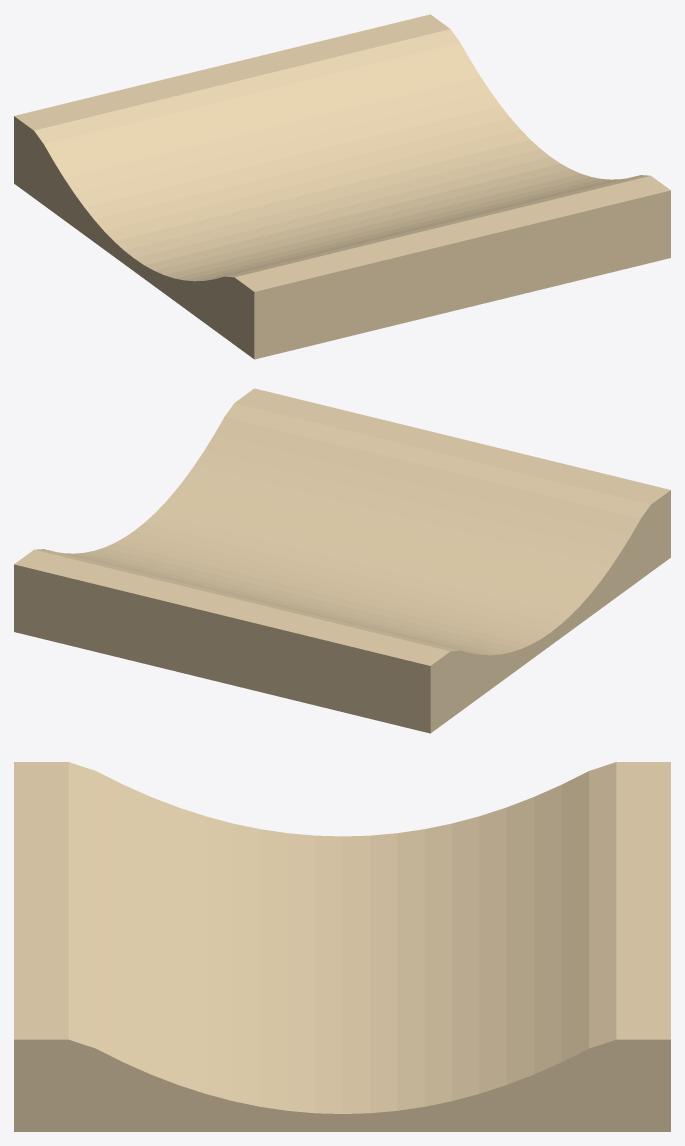
File: desert-canyons-and-oases-wadi-straight-264cbc8e__20953.glb
3 renders of one model, top to bottom at view 1: azimuth 30°, elevation 25°; view 2: azimuth 150°, elevation 25°; view 3: azimuth 270°, elevation 25°, orthographic. The views are drawn at different scales.
Visible parts, largest first — view 1: wadi-straight; view 2: wadi-straight; view 3: wadi-straight.
Boxes of the visible parts, bbox=[...] form: wadi-straight: bbox=[14, 14, 670, 359]; wadi-straight: bbox=[14, 388, 670, 733]; wadi-straight: bbox=[14, 762, 670, 1131].
Size of the model in its own units: 4 by 0.6201 by 4.
